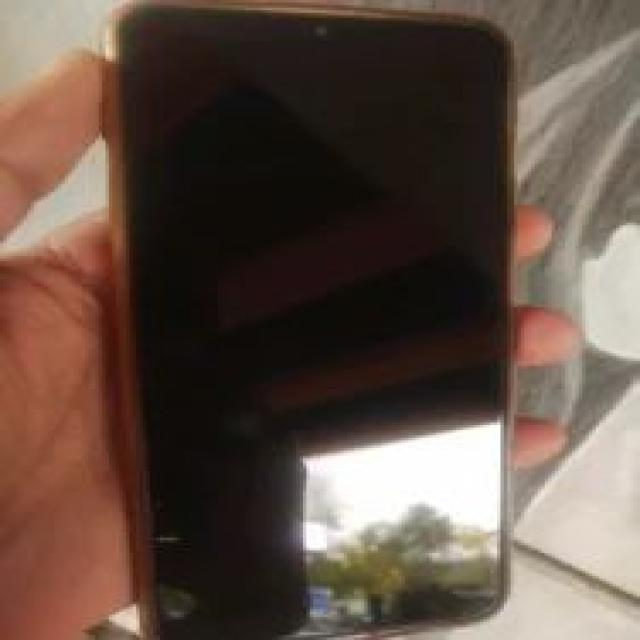mobile phone: (95, 0, 517, 637)
